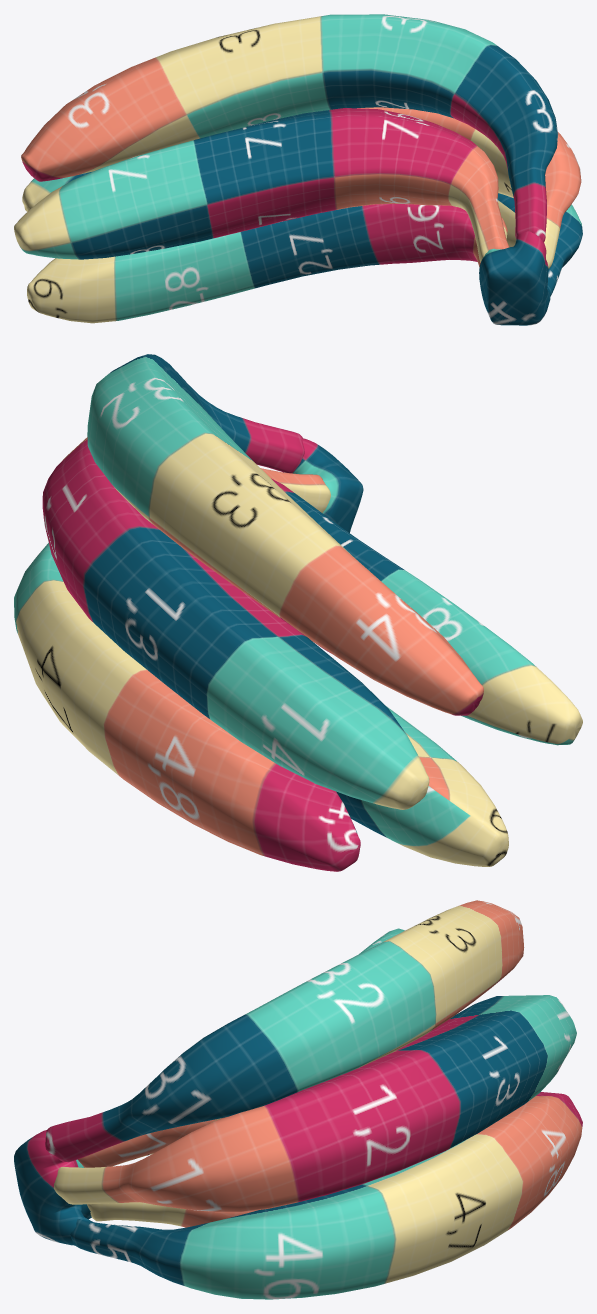
Rendered from Bananas.obj.
3 renders of one model, top to bottom at view 1: azimuth 30°, elevation 25°; view 2: azimuth 150°, elevation 25°; view 3: azimuth 270°, elevation 25°, orthographic. The views are drawn at different scales.
Parts seen in each view (by area): view 1: Bananas Fruit_Bowl; view 2: Bananas Fruit_Bowl; view 3: Bananas Fruit_Bowl.
Part boxes in pixels (x1,y1,x2,y2): Bananas Fruit_Bowl: (14,14,582,325); Bananas Fruit_Bowl: (14,354,582,871); Bananas Fruit_Bowl: (14,900,582,1299).
Size of the model in its own units: 25.95 by 13.63 by 22.43.
